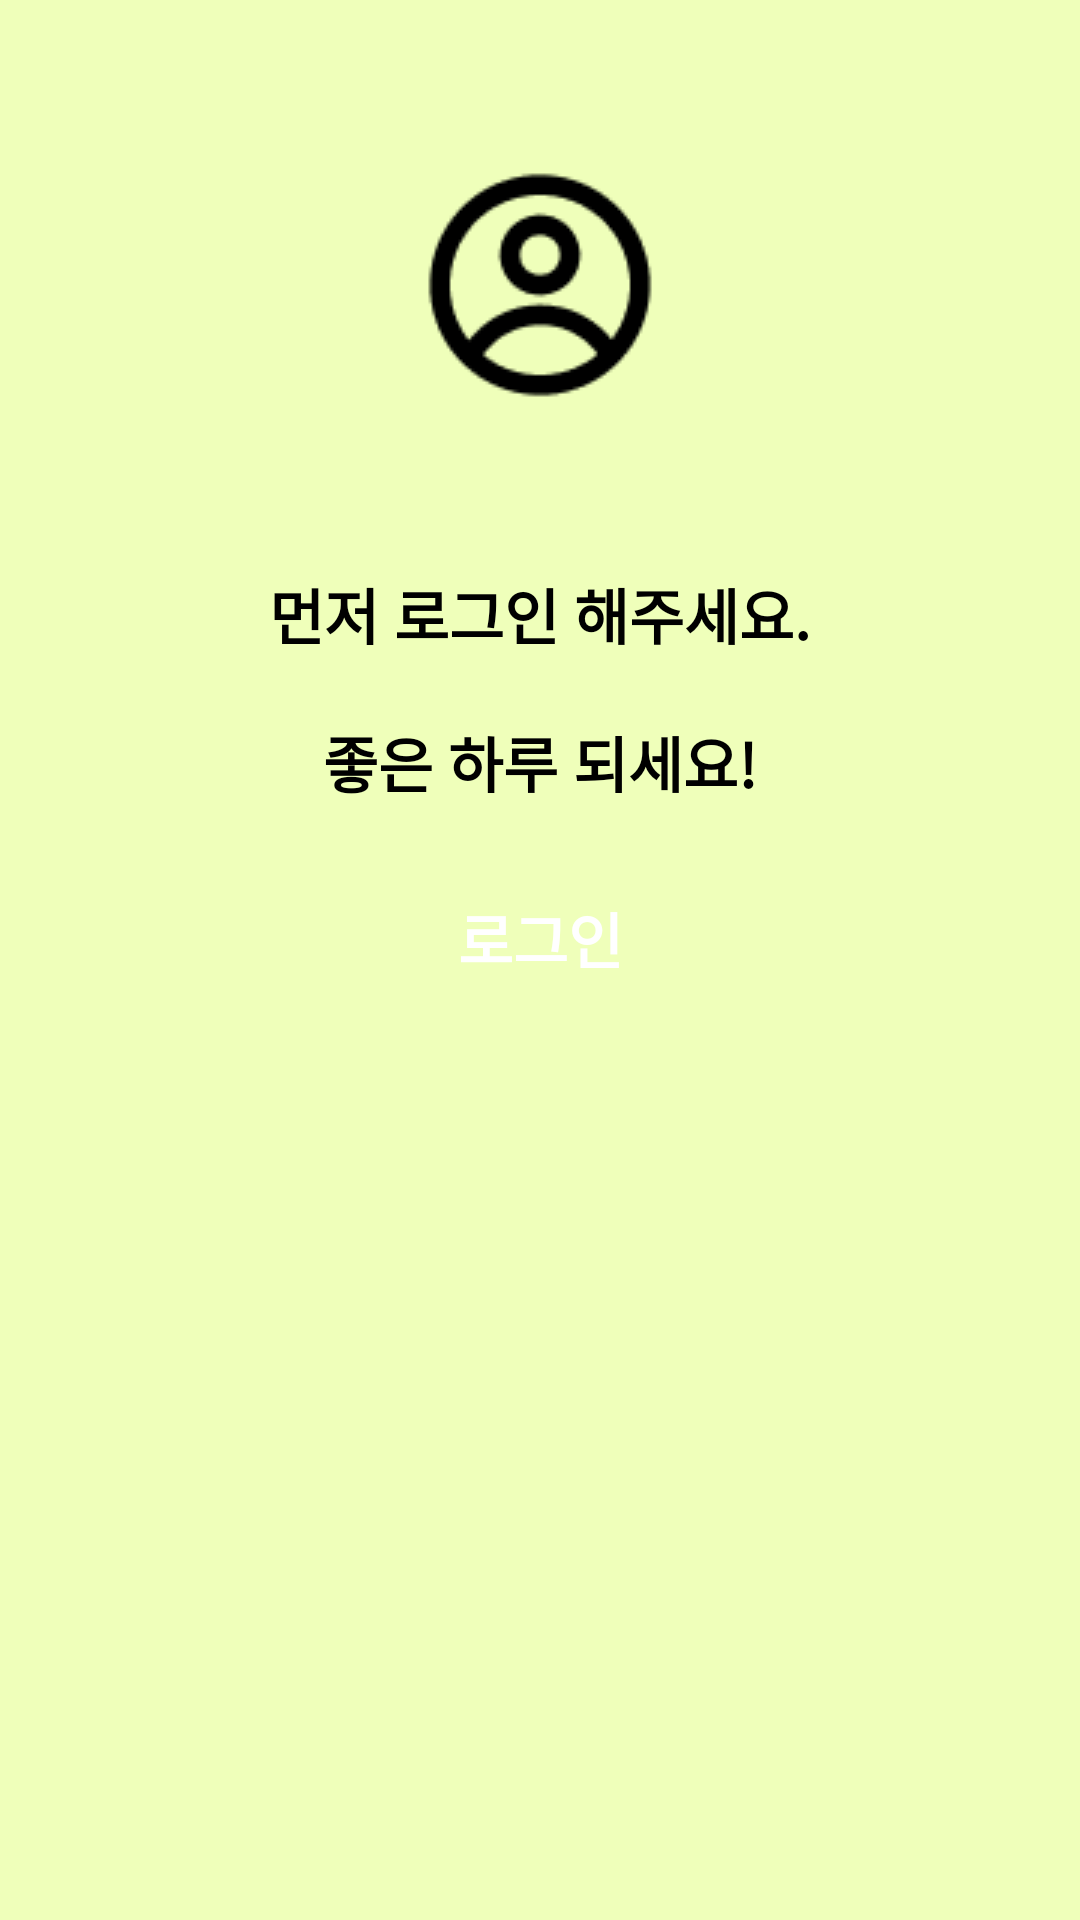

Point at icon controls on the screen. Image size 1080 × 1920, points as point (x, y).
profile: point (540, 285)
